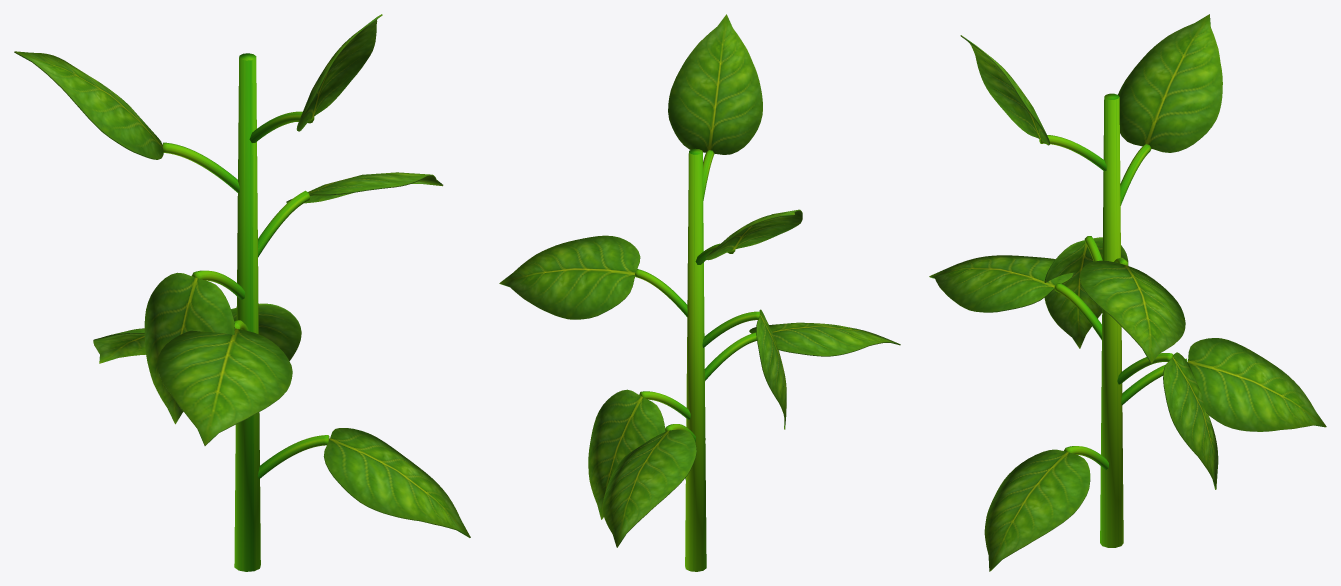
File: NP_GreenBean_Young.fbx
3 views of the same model, side by side, from view 1: azimuth 30°, elevation 25°; view 2: azimuth 150°, elevation 25°; view 3: azimuth 270°, elevation 25° (orthographic). The views are drawn at different scales.
Parts seen in each view (by area): view 1: NP_GreenBean_Young; view 2: NP_GreenBean_Young; view 3: NP_GreenBean_Young.
Part boxes in pixels (box(x1,y1,x2,y2)): NP_GreenBean_Young: box(14, 14, 470, 571); NP_GreenBean_Young: box(499, 14, 900, 571); NP_GreenBean_Young: box(929, 14, 1326, 571).
Size of the model in its own units: 47.41 by 69.05 by 47.06.
